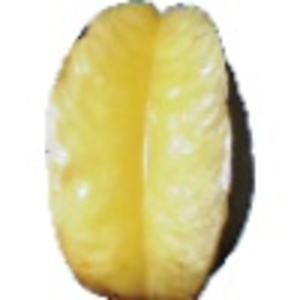carambola: (47, 1, 256, 300)
